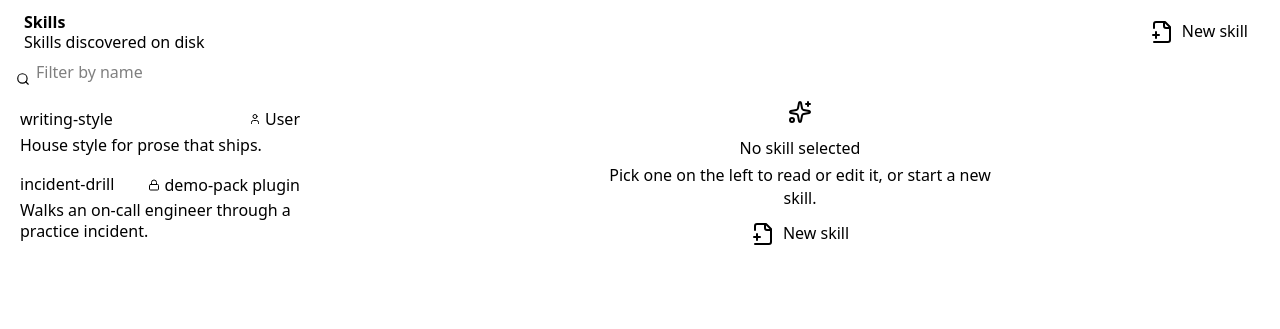
Scenario: DefinitionWorkbench › names the bad field while the user is still typing, and will not save until it is fixed
Click the button "writing-style User House style for prose that ships." at (160,132), box [8,100,312,164]
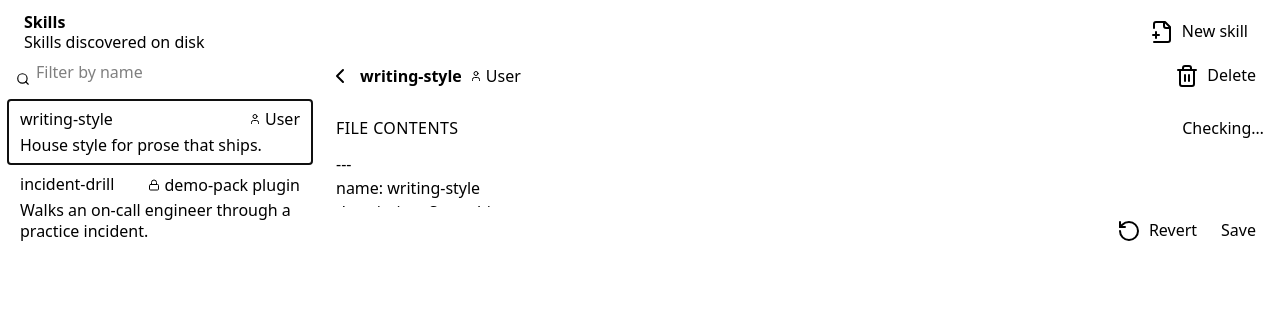
Replace the text in the text box labelled "File contents" with "BROKEN" at (800,179), box [336,152,1264,207]
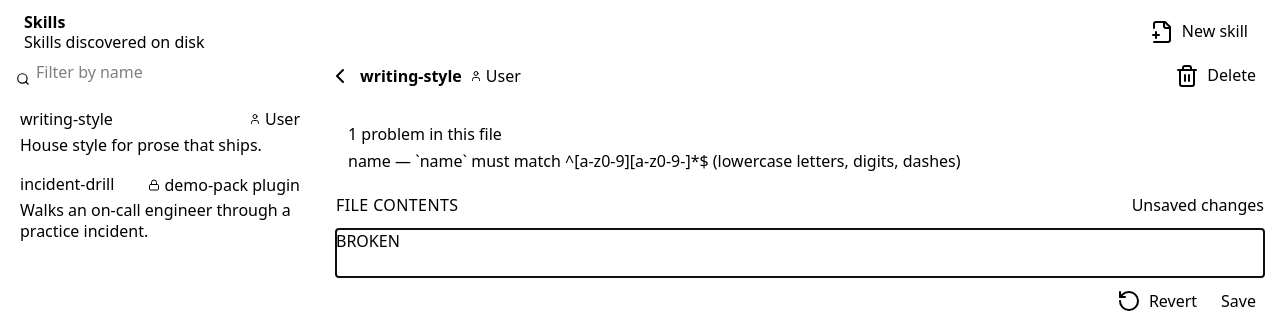
Now the message that starts with "1 problem" shows "name", box [348,150,391,172]
Now the message that starts with "1 problem" shows "must match", box [415,150,961,172]
Now the button "Save" is disabled, box [1213,291,1264,312]
